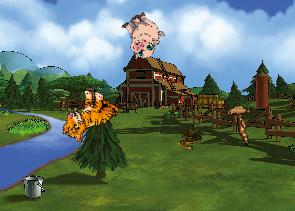eagle: (210, 89, 269, 146)
pig: (114, 7, 169, 63)
tiger: (58, 83, 122, 151)
